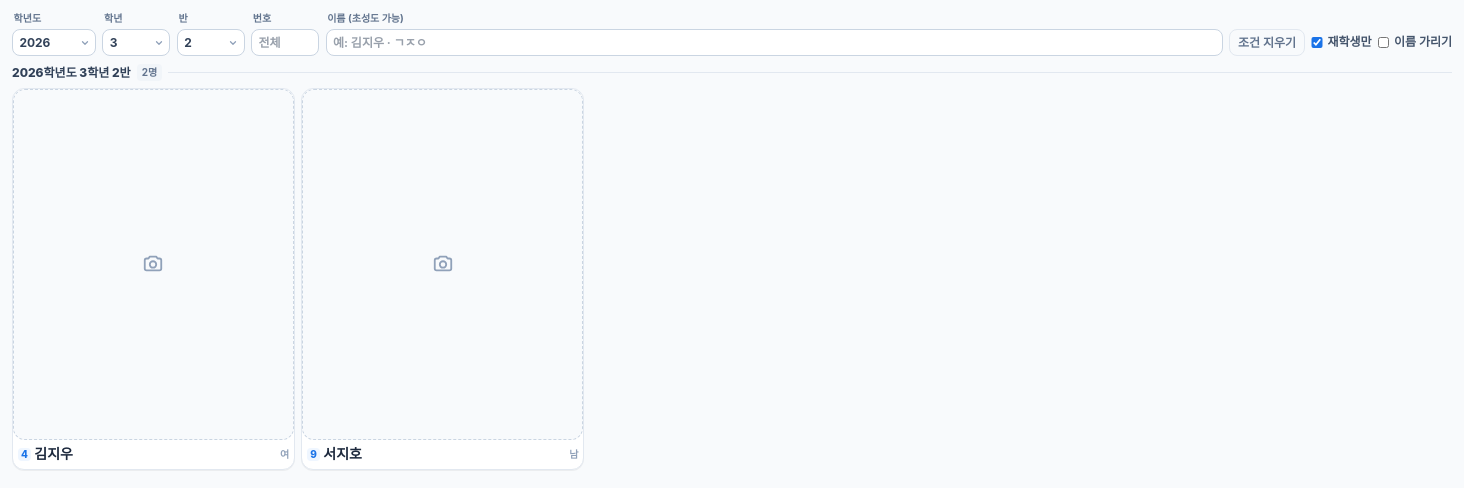
Test: 검색 탭 - 그 밖의 손잡이 › 이름 가리기를 켜면 이름 자리에 물음표가 뜬다
Click the checkbox labelled "이름 가리기" at [1384, 42], box x1=1378 y1=36 x2=1389 y2=48
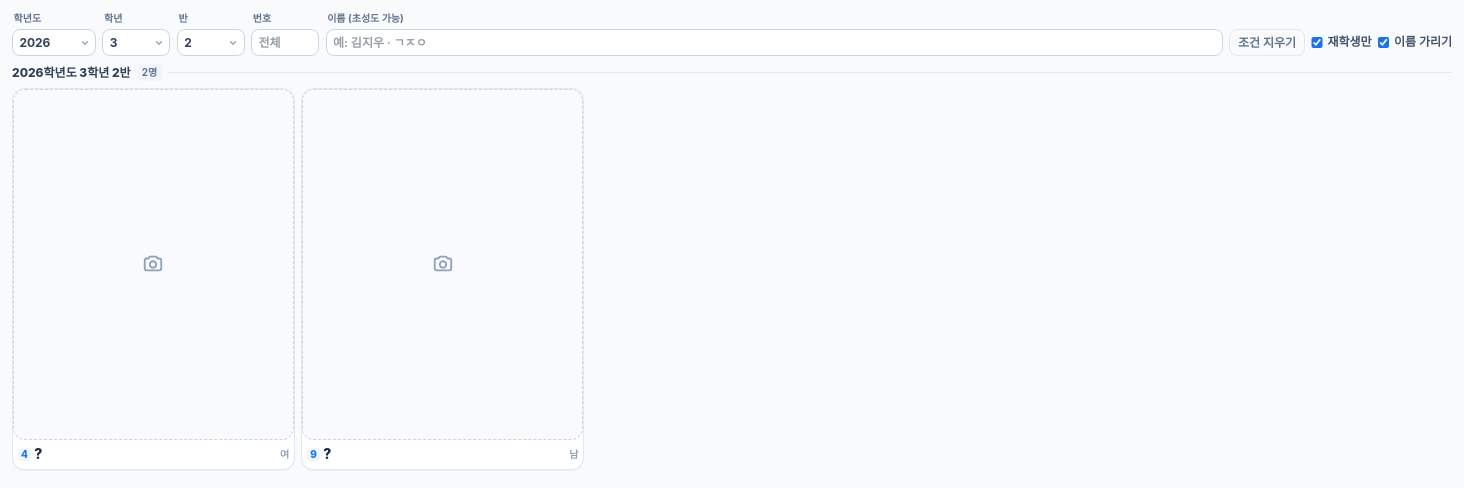
Now the 1st text "?" is shown, box x1=34 y1=444 x2=42 y2=464
